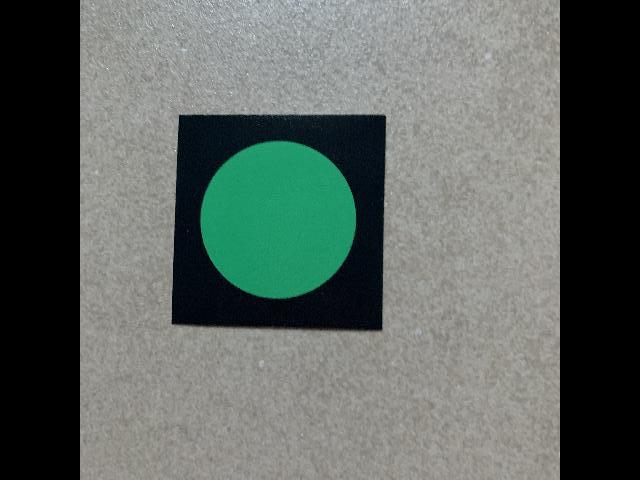go: (171, 112, 387, 333)
